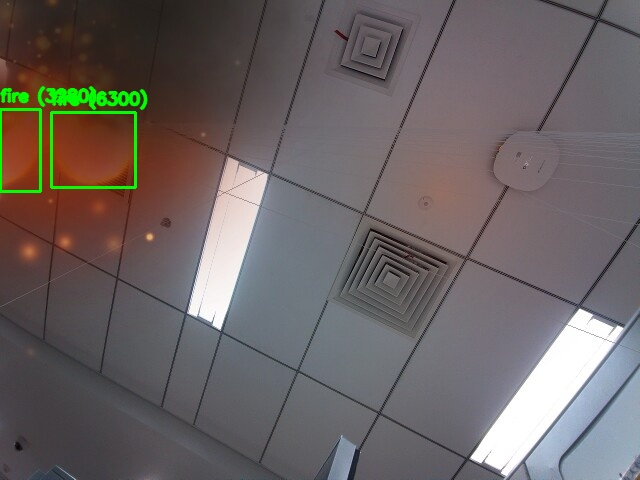fire: (51, 112, 135, 187), (0, 109, 40, 191)
